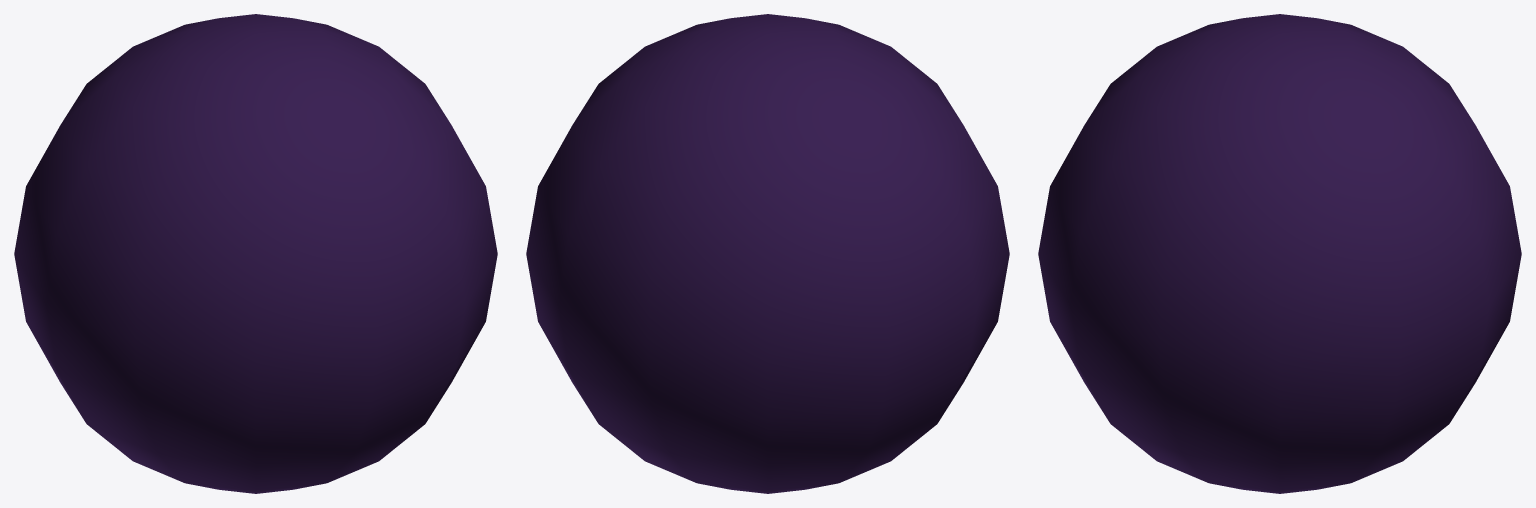
Rendered from shade_stage2.obj.
3 views of the same model, side by side, from view 1: azimuth 30°, elevation 25°; view 2: azimuth 150°, elevation 25°; view 3: azimuth 270°, elevation 25° (orthographic).
Bounding box in the file's own units: 2 × 2 × 2.
